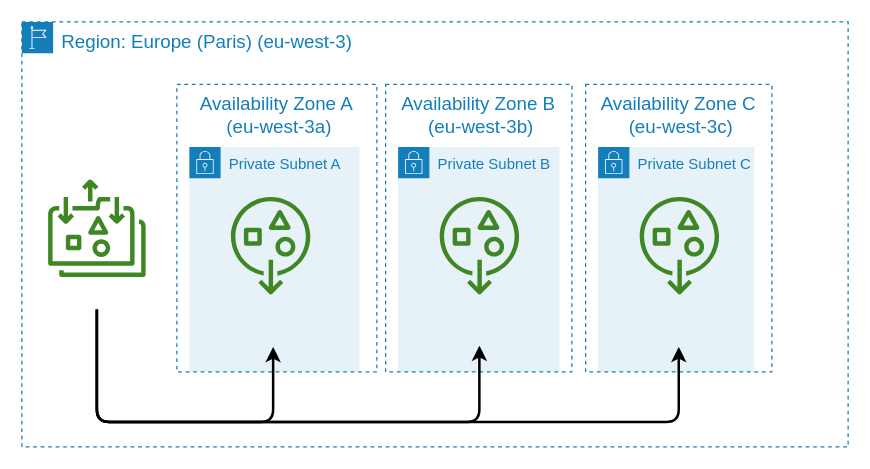
This 870x469 diagram has some shape labels left out. The centre of each missing label's shape, as x and y in pixels:
"Access Point A" goes at point (270, 245).
"Access Point B" goes at point (478, 245).
"Access Point C" goes at point (678, 245).
"EFS" goes at point (96, 227).
